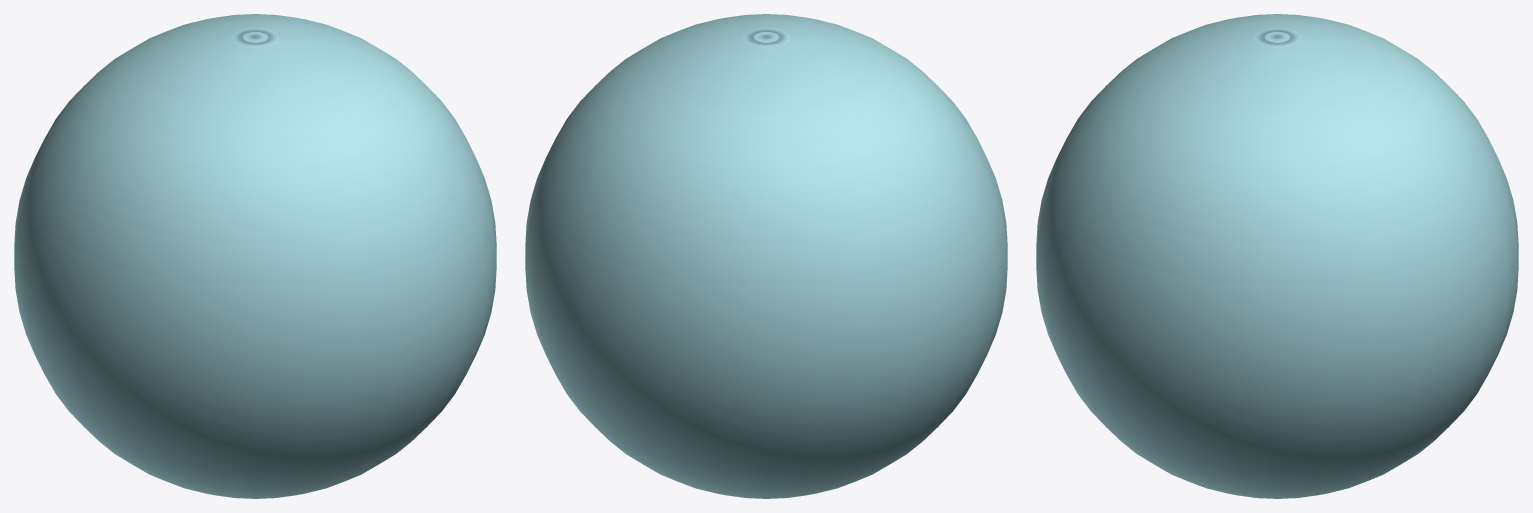
The model's file is urano.glb.
3 views of the same model, side by side, from view 1: azimuth 30°, elevation 25°; view 2: azimuth 150°, elevation 25°; view 3: azimuth 270°, elevation 25° (orthographic).
Bounding box in the file's own units: 2 × 2 × 1.99.
Materials: 1 (1 with a texture image).
